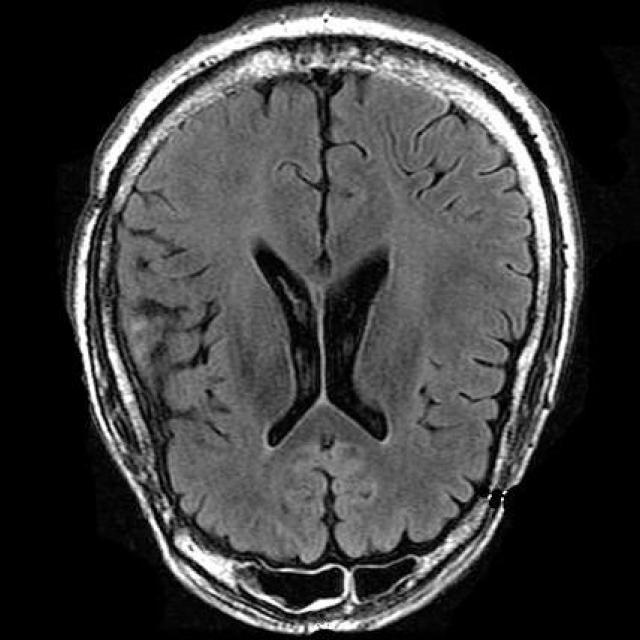notumor: (66, 8, 582, 637)
